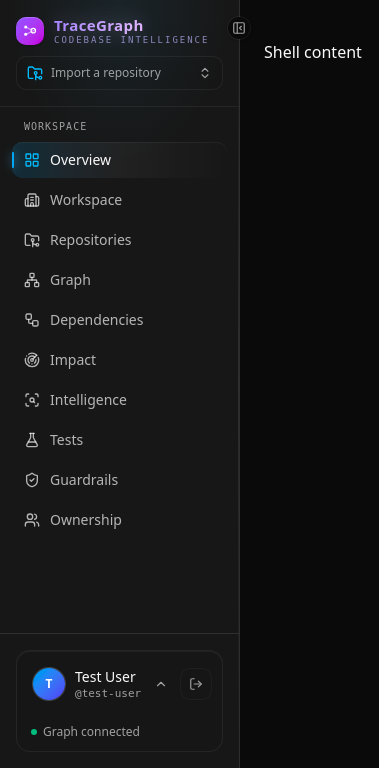
it: AppShell navigation › collapses and expands the desktop sidebar via the rail toggle
Click the button named "Collapse sidebar" at x=239, y=28, box [227,16,251,40]
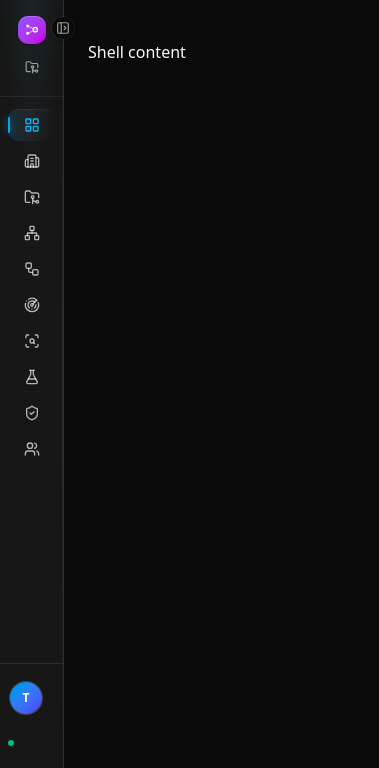
Expected: the button named "Expand sidebar" is shown
Expected: the link named "Overview" no longer shows "Overview", [8,109,55,141]
Click the button named "Expand sidebar" at x=63, y=28, box [51,16,75,40]
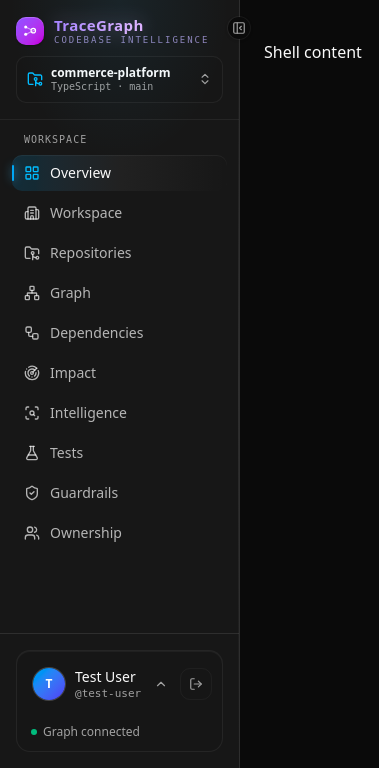
Expected: the link "Overview" is shown, [12,154,227,190]
